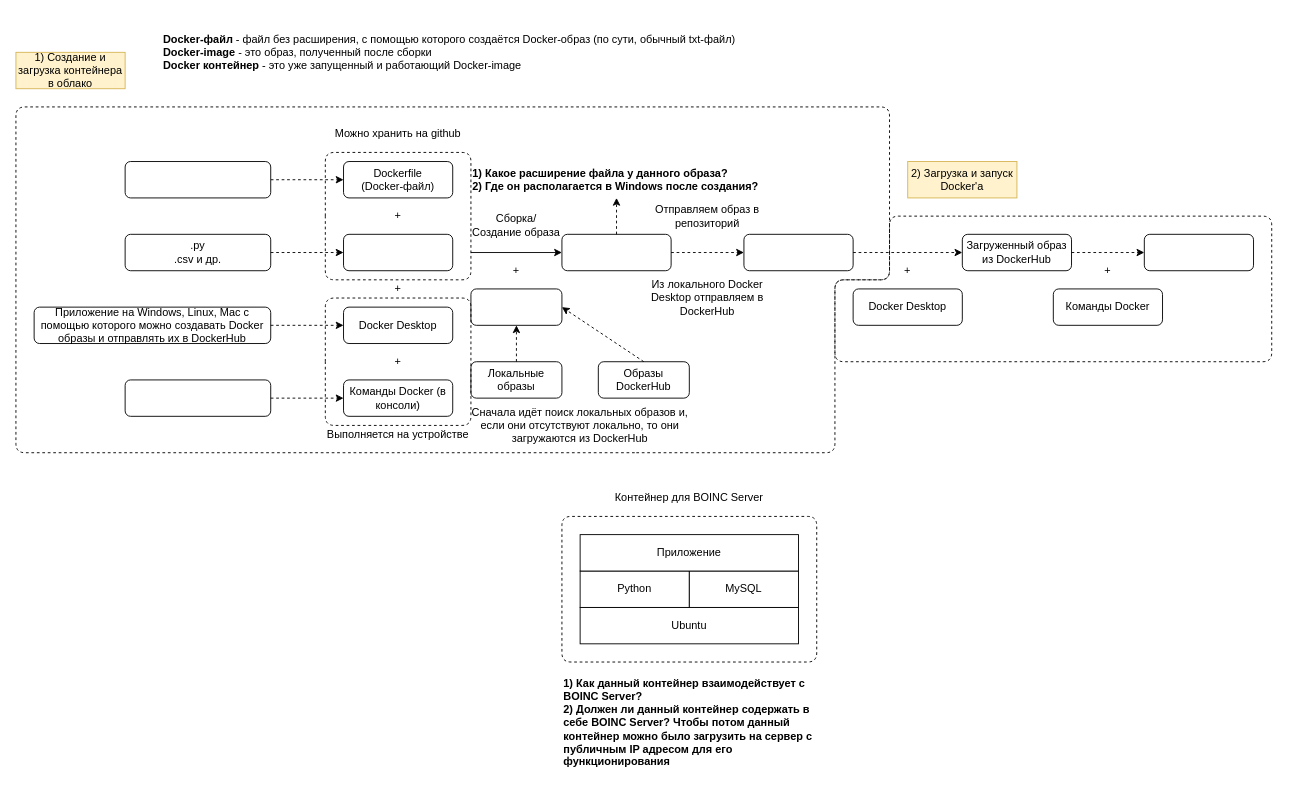
Image size: 1289x804. Some labels were removed from this diagram. The centre of each missing label's shape, as x and y in pixels:
Вспомогальные образы (ubuntu, python и т. д.): point 516,306
Готовый образ (Docker-image): point 616,252
Контейнер запущен (Docker контейнер): point 1198,252
Образ в DockerHub: point 798,252
См. лист "Команды Docker": point 197,397
Файл с описанием того, как должна производиться сборка (без расширения): point 197,179
Файлы: point 398,252
